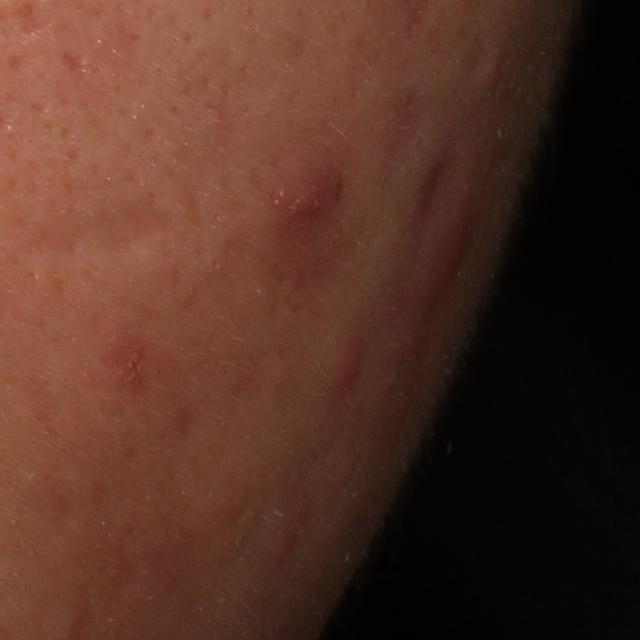atrophic_scar: (458, 28, 499, 94), (18, 2, 60, 38), (52, 47, 92, 73)
other: (6, 202, 195, 273)
papule: (268, 147, 356, 240), (323, 331, 374, 405), (432, 223, 476, 294)
